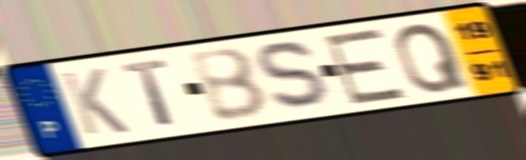B: (185, 44, 273, 124)
E: (320, 25, 410, 107)
K: (57, 66, 133, 138)
Q: (392, 20, 472, 97)
S: (253, 39, 339, 113)
T: (118, 57, 179, 130)
